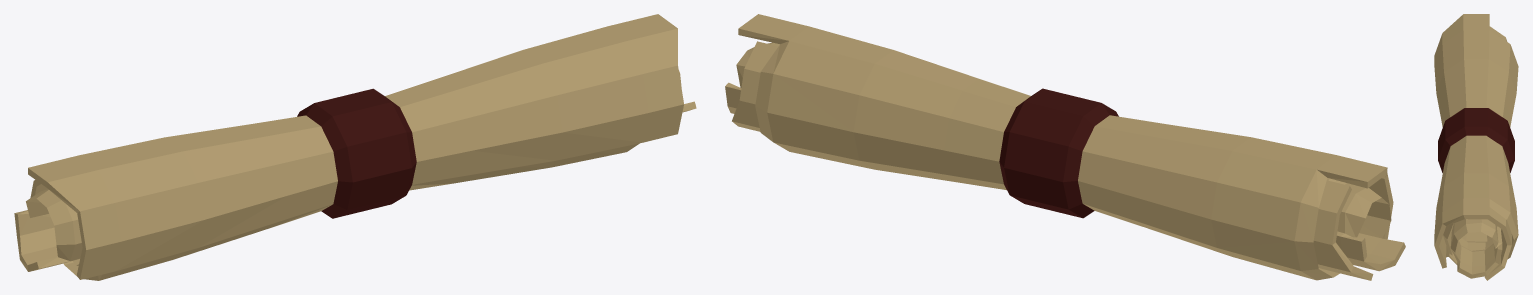
Rendered from scroll.glb.
3 renders of one model, left to right at view 1: azimuth 30°, elevation 25°; view 2: azimuth 150°, elevation 25°; view 3: azimuth 270°, elevation 25°, orthographic. The views are drawn at different scales.
Parts seen in each view (by area): view 1: Scroll; view 2: Scroll; view 3: Scroll.
Part boxes in pixels (x1,y1,x2,y2): Scroll: (14,14,696,280); Scroll: (725,14,1405,280); Scroll: (1434,14,1518,280).
Size of the model in its own units: 148 by 23.84 by 25.06.
